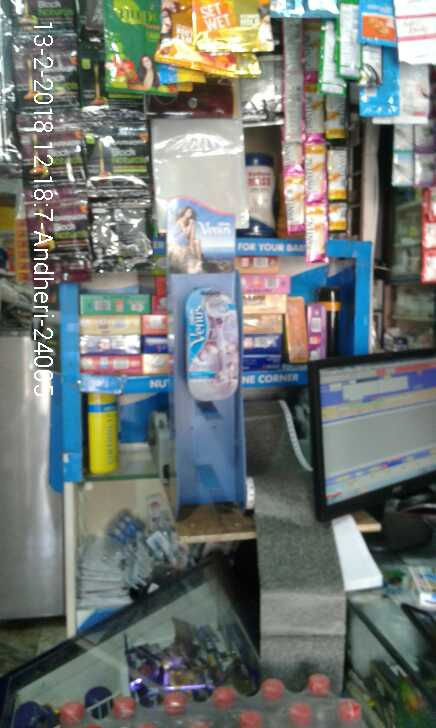venus: (187, 281, 239, 398)
